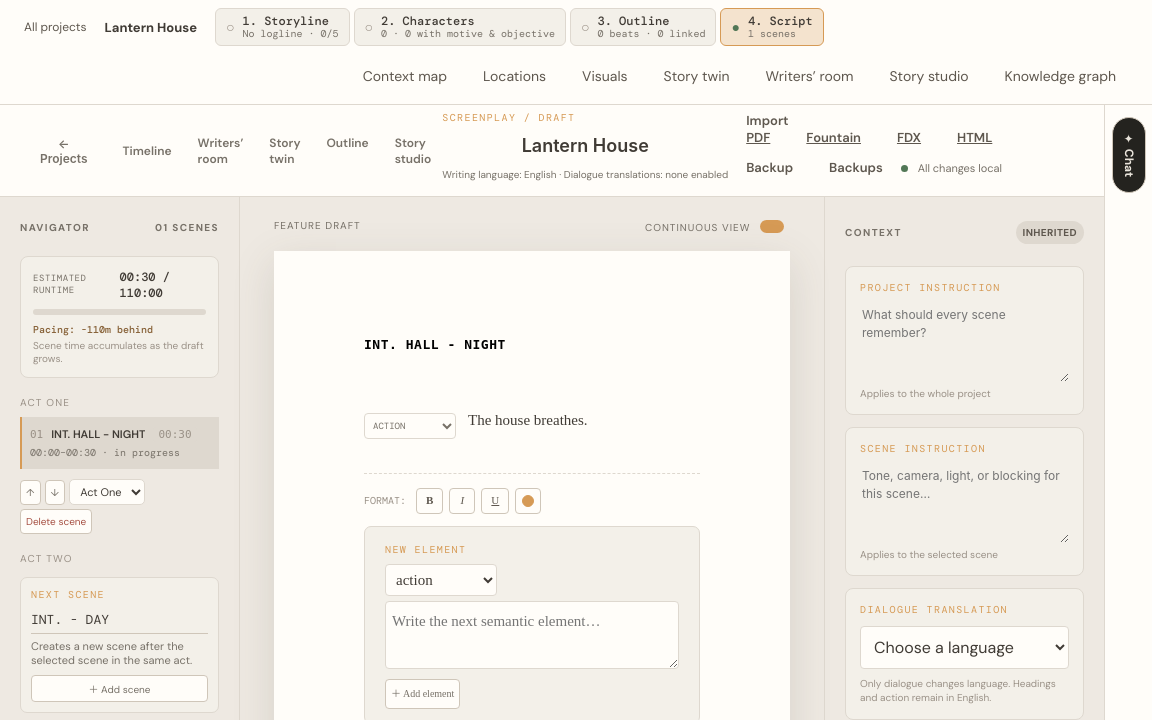
Test: Script workspace › changes a block type directly, moves and deletes scenes
The width and height of the screenshot is (1152, 720).
Select "Transition" in the dropdown named "Format action" at (410, 426), box [364,413,456,439]
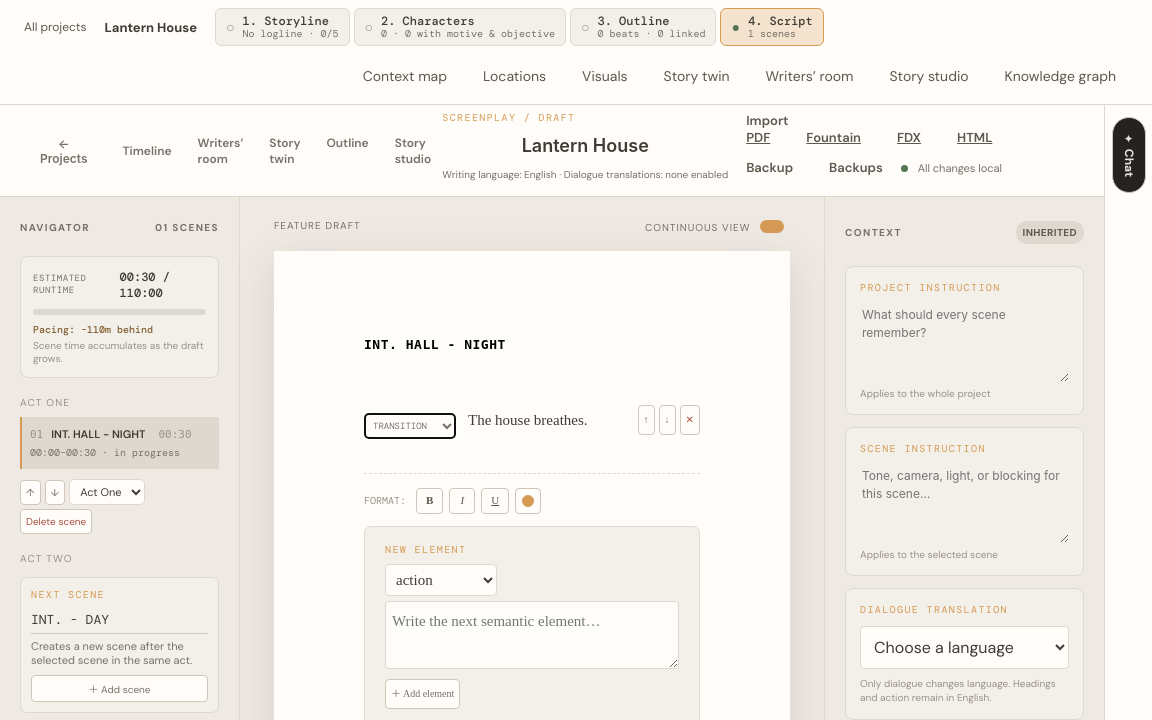
Click the button named "Move scene down".
click(55, 492)  # box [45,480,65,505]
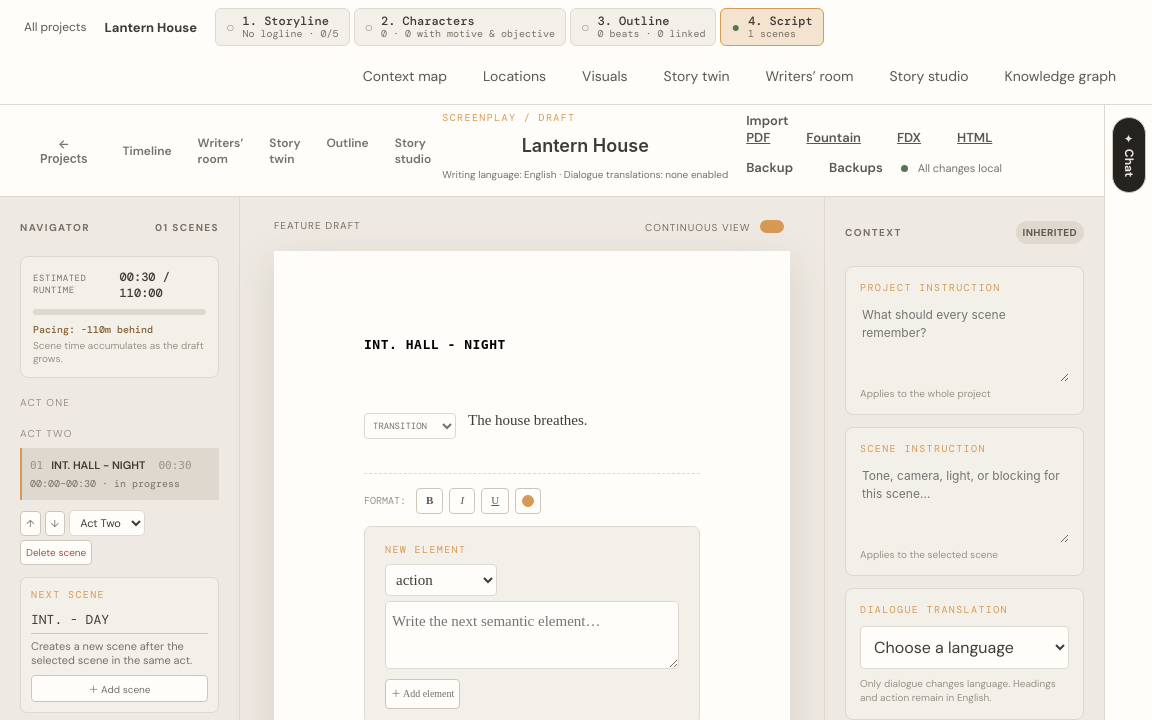
Click the button "Delete scene".
click(56, 553)  # box [20,540,92,565]
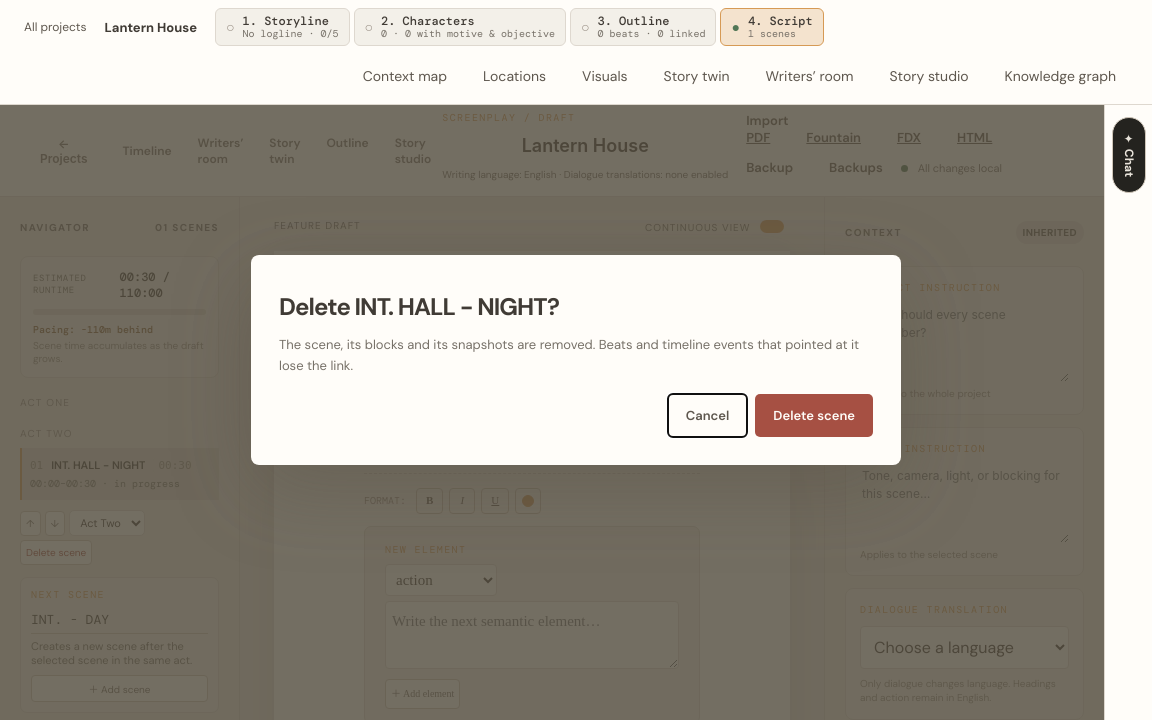
Click the button "Delete scene".
click(814, 416)  # box [755,394,873,437]
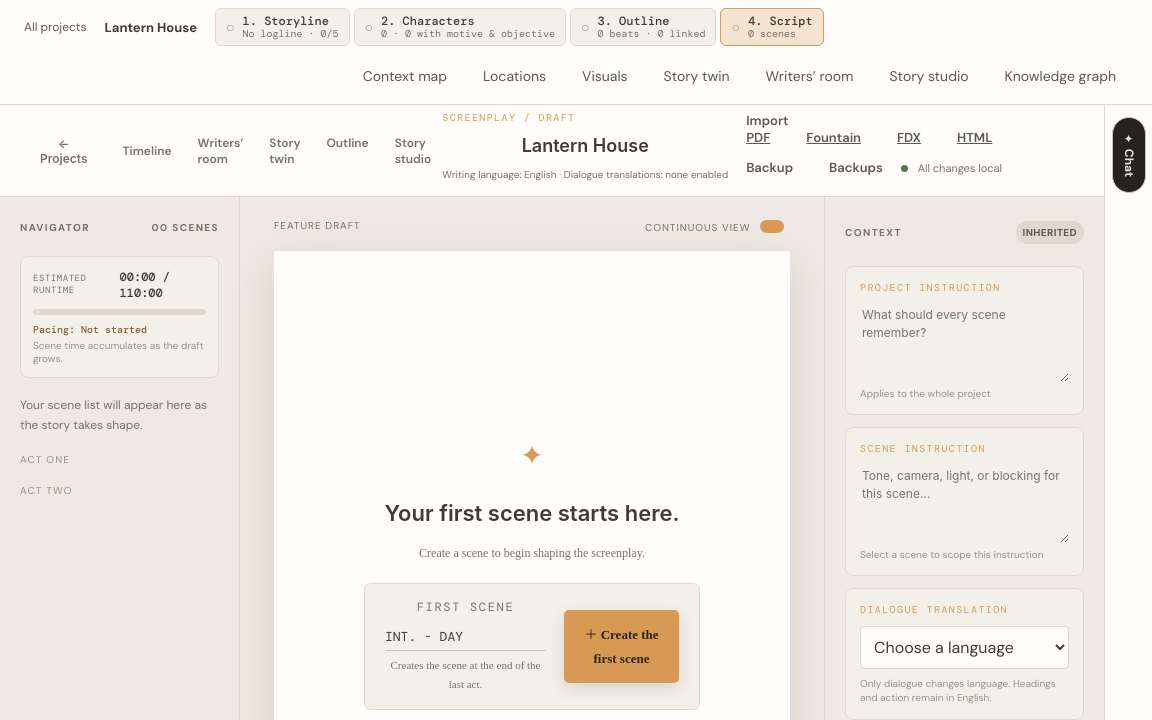
expect the heading "Your first scene starts here." is shown: met, box [364,500,700,526]
